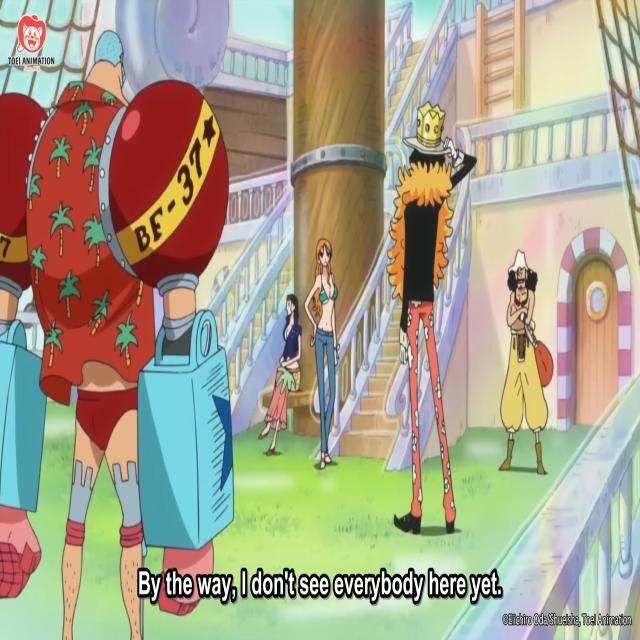Brook: (384, 100, 453, 552)
Franky: (0, 40, 218, 630)
Nami: (309, 238, 337, 474)
Robin: (267, 293, 300, 466)
Usopp: (494, 236, 545, 474)
